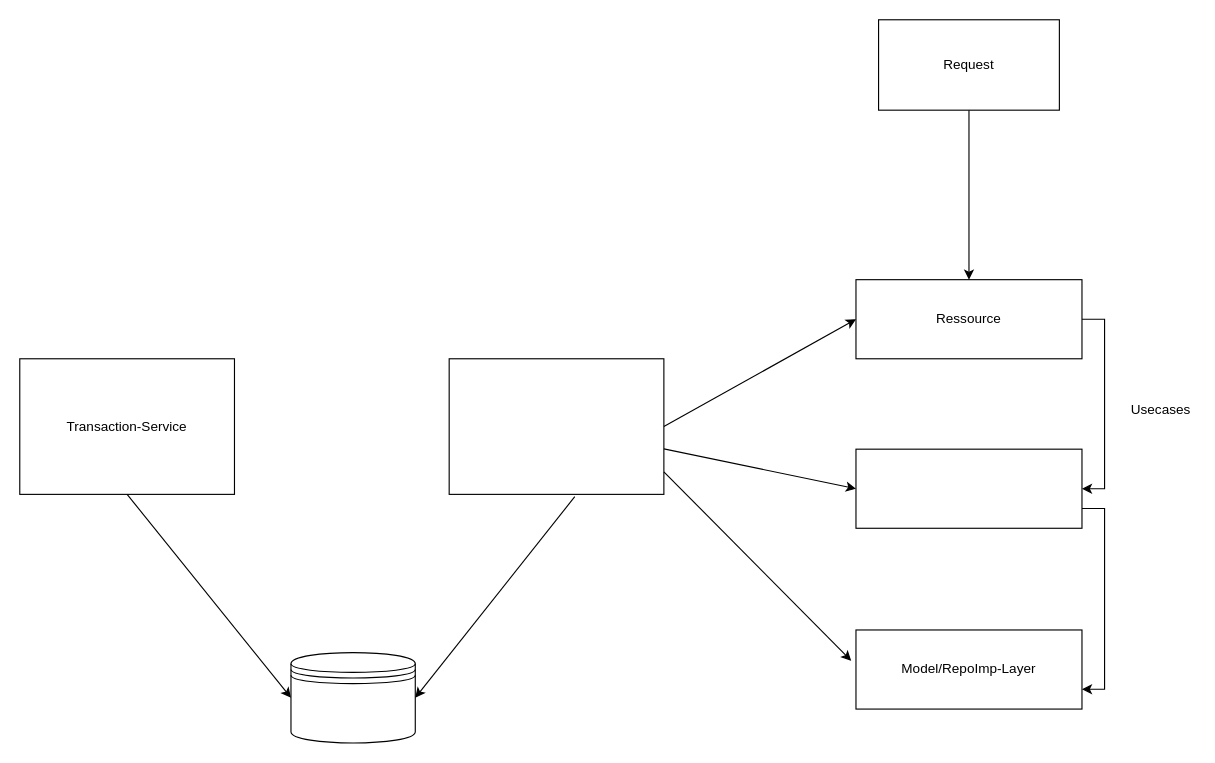
Image size: 1215x763. Some labels were removed from this diagram. The centre of each missing label's shape, as x and y in pixels:
"Depot-Service" belongs at point 556,426.
"Domain" belongs at point 968,488.
